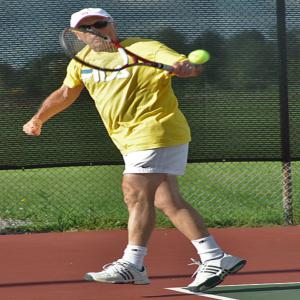TennisBall: (188, 51, 209, 66)
